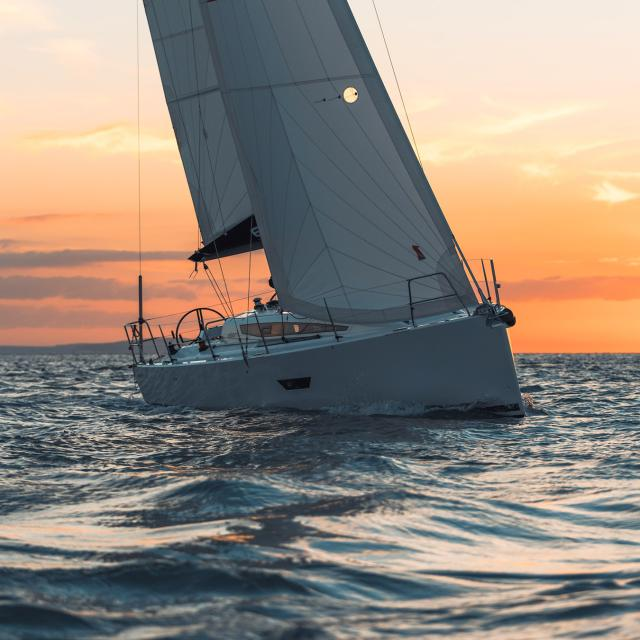boat: (90, 0, 560, 431)
